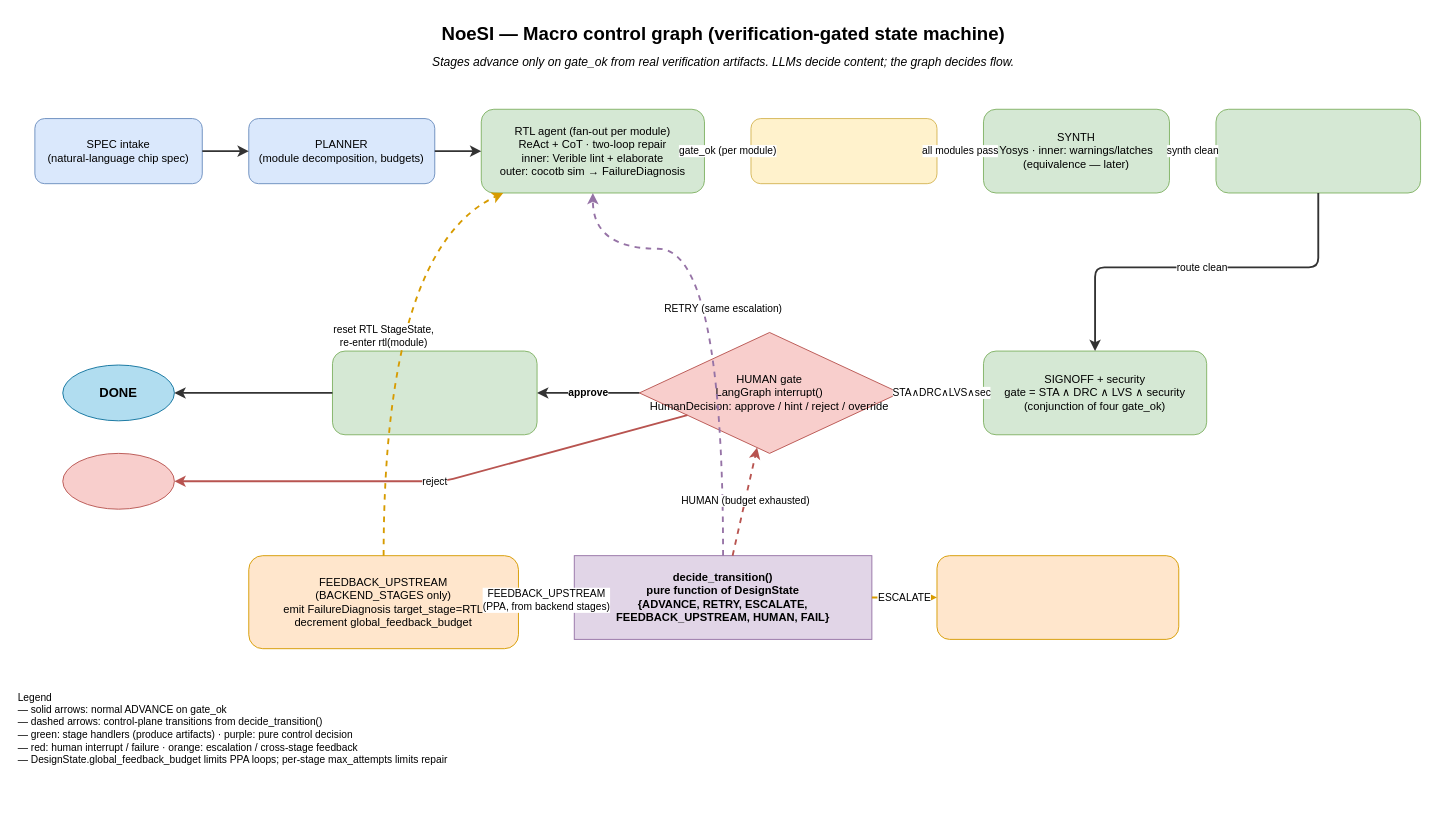
The diagram is 1445 pixels wide and 822 high, and some of its shapes have lost their labels. Each missing label, with the centre of its shape:
ESCALATE INNER → OUTER → HUMAN (reset attempts, next-loop model binding): the point at 1057,597
FAILED: the point at 118,480
GDSII emit (mandatory human approval upstream): the point at 434,392
INTEGRATE join: every module's RTL gate passes: the point at 843,151
PHYSICAL / LibreLane inner: route/DRC-lite outer: congestion / slack: the point at 1318,150
